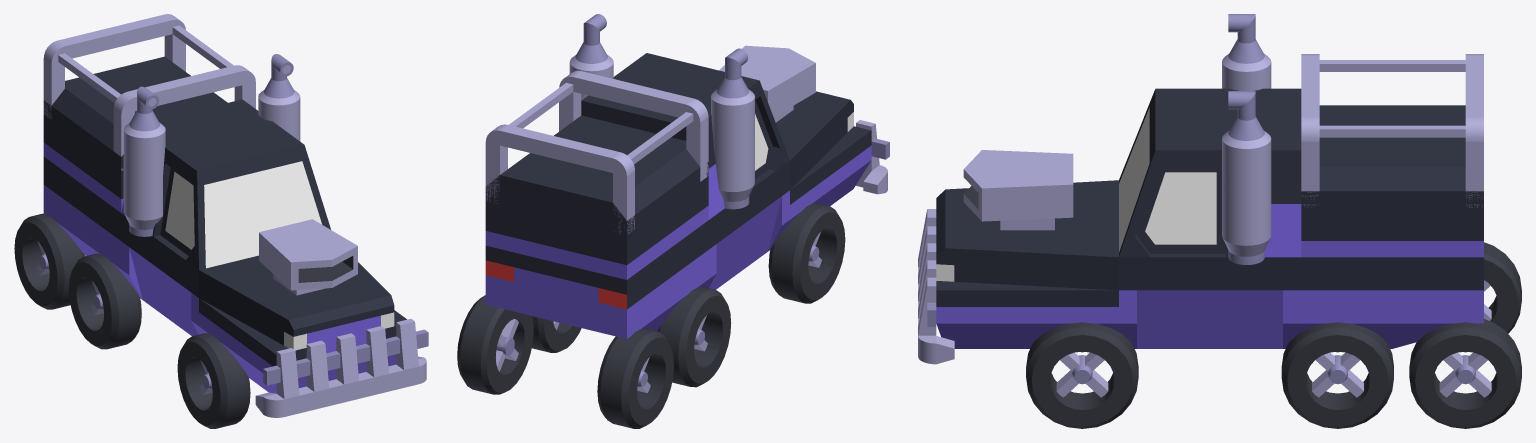
The model's file is Truck.fbx.
The picture shows the model from 3 angles, left to right: view 1: azimuth 30°, elevation 25°; view 2: azimuth 150°, elevation 25°; view 3: azimuth 270°, elevation 25°; orthographic projection. The views are drawn at different scales.
Parts seen in each view (by area): view 1: body_topVan, wheel_spokes (×3), body_frontTruck, body_topBackCargo, bumper_grill, detail_rollbarLarge, detail_exhaustVertical (×2), detail_engine, body_edge, body_backSolid; view 2: wheel_spokes (×5), body_topBackCargo, body_backSolid, detail_rollbarLarge, body_topVan, body_frontTruck, detail_exhaustVertical (×2), body_edge, detail_engine, bumper_grill; view 3: wheel_spokes (×4), body_frontTruck, body_topBackCargo, body_topVan, body_edge, body_backSolid, detail_exhaustVertical (×2), detail_rollbarLarge, detail_engine, bumper_grill.
Part boxes in pixels (x1=…): body_topVan: x1=121, y1=99, x2=330, y2=269; wheel_spokes (×3): x1=14, y1=213, x2=250, y2=428; body_frontTruck: x1=199, y1=255, x2=406, y2=393; body_topBackCargo: x1=43, y1=56, x2=227, y2=212; bumper_grill: x1=255, y1=319, x2=428, y2=417; detail_rollbarLarge: x1=43, y1=14, x2=255, y2=170; detail_exhaustVertical (×2): x1=123, y1=54, x2=300, y2=236; detail_engine: x1=259, y1=219, x2=357, y2=295; body_edge: x1=121, y1=213, x2=202, y2=336; body_backSolid: x1=43, y1=157, x2=125, y2=277; wheel_spokes (×5): x1=457, y1=203, x2=845, y2=428; body_topBackCargo: x1=485, y1=115, x2=708, y2=279; body_backSolid: x1=485, y1=220, x2=708, y2=338; detail_rollbarLarge: x1=485, y1=70, x2=708, y2=233; body_topVan: x1=581, y1=53, x2=789, y2=219; body_frontTruck: x1=776, y1=91, x2=871, y2=227; detail_exhaustVertical (×2): x1=569, y1=14, x2=754, y2=209; body_edge: x1=704, y1=161, x2=789, y2=289; detail_engine: x1=719, y1=45, x2=815, y2=122; bumper_grill: x1=856, y1=120, x2=889, y2=194; wheel_spokes (×4): x1=1026, y1=242, x2=1521, y2=428; body_frontTruck: x1=936, y1=180, x2=1118, y2=348; body_topBackCargo: x1=1301, y1=105, x2=1483, y2=257; body_topVan: x1=1119, y1=88, x2=1301, y2=257; body_edge: x1=1119, y1=253, x2=1301, y2=348; body_backSolid: x1=1301, y1=257, x2=1483, y2=348; detail_exhaustVertical (×2): x1=1222, y1=14, x2=1271, y2=264; detail_rollbarLarge: x1=1301, y1=54, x2=1483, y2=207; detail_engine: x1=963, y1=150, x2=1073, y2=230; bumper_grill: x1=918, y1=209, x2=954, y2=364.
Bounding box in the file's own units: 12.7 × 20.08 × 33.08.
